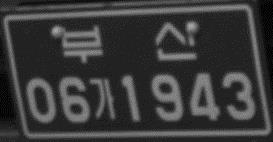0: (25, 74, 57, 125)
1: (118, 73, 144, 123)
3: (221, 70, 256, 122)
4: (188, 71, 220, 121)
6: (57, 74, 92, 125)
9: (149, 73, 184, 122)
가: (89, 76, 117, 120)
부산_D: (59, 19, 199, 66)
